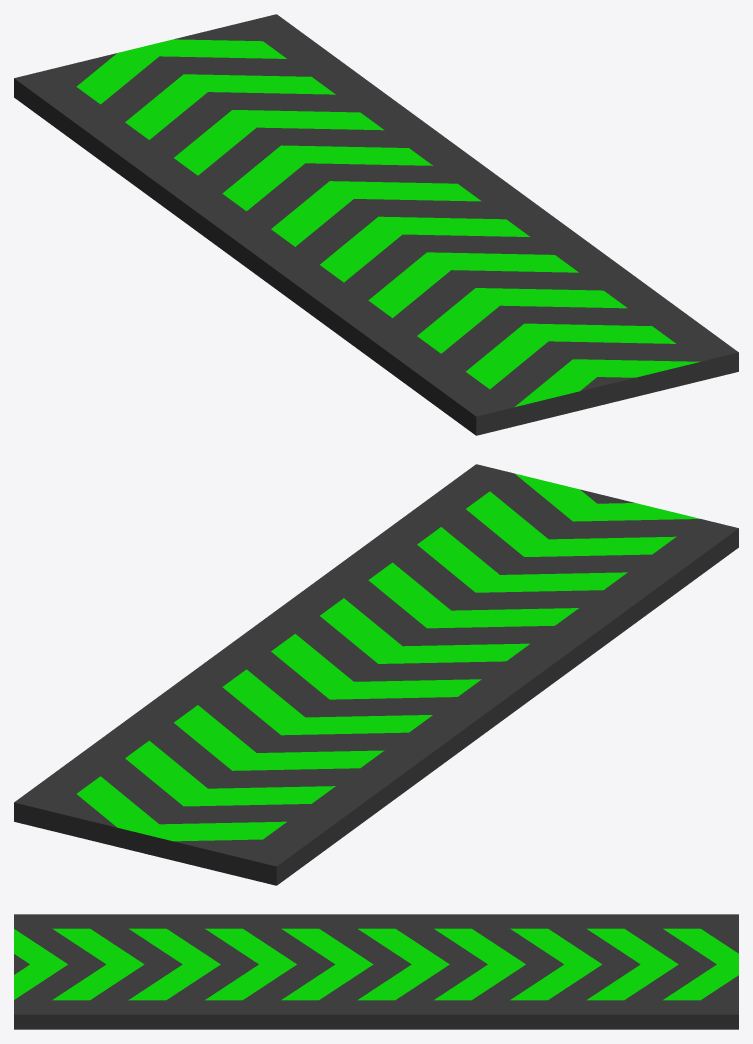
The model's file is greenarrows.fbx.
3 renders of one model, top to bottom at view 1: azimuth 30°, elevation 25°; view 2: azimuth 150°, elevation 25°; view 3: azimuth 270°, elevation 25°, orthographic. The views are drawn at different scales.
Parts seen in each view (by area): view 1: Cube.005; view 2: Cube.005; view 3: Cube.005.
Boxes of the visible parts, bbox=[...] form: Cube.005: bbox=[14, 14, 738, 435]; Cube.005: bbox=[14, 464, 738, 885]; Cube.005: bbox=[14, 914, 738, 1029].
Size of the model in its own units: 265 by 18.57 by 808.
